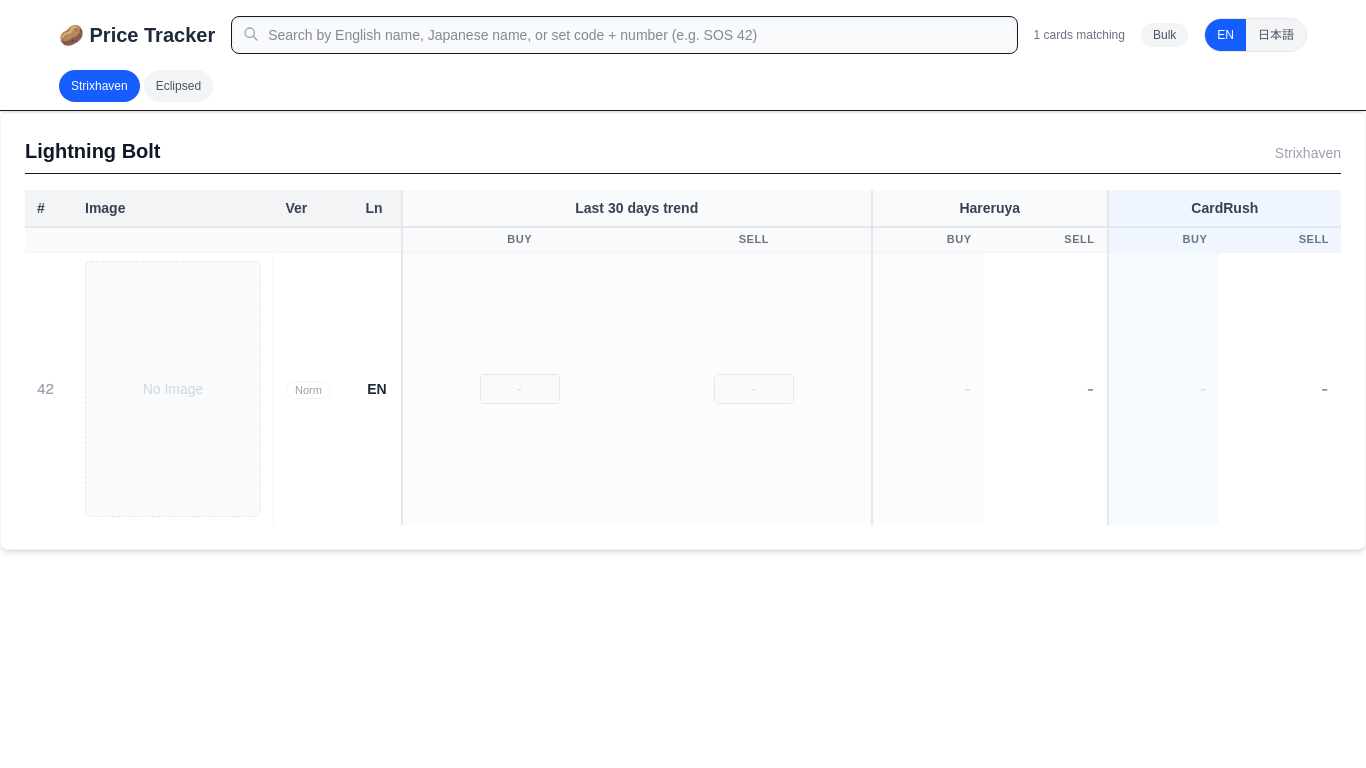
CardList › keeps matching card visible when search matches
The image size is (1366, 768).
In the field: {"x": 624, "y": 35} [231, 16, 1018, 54], type "Lightning"
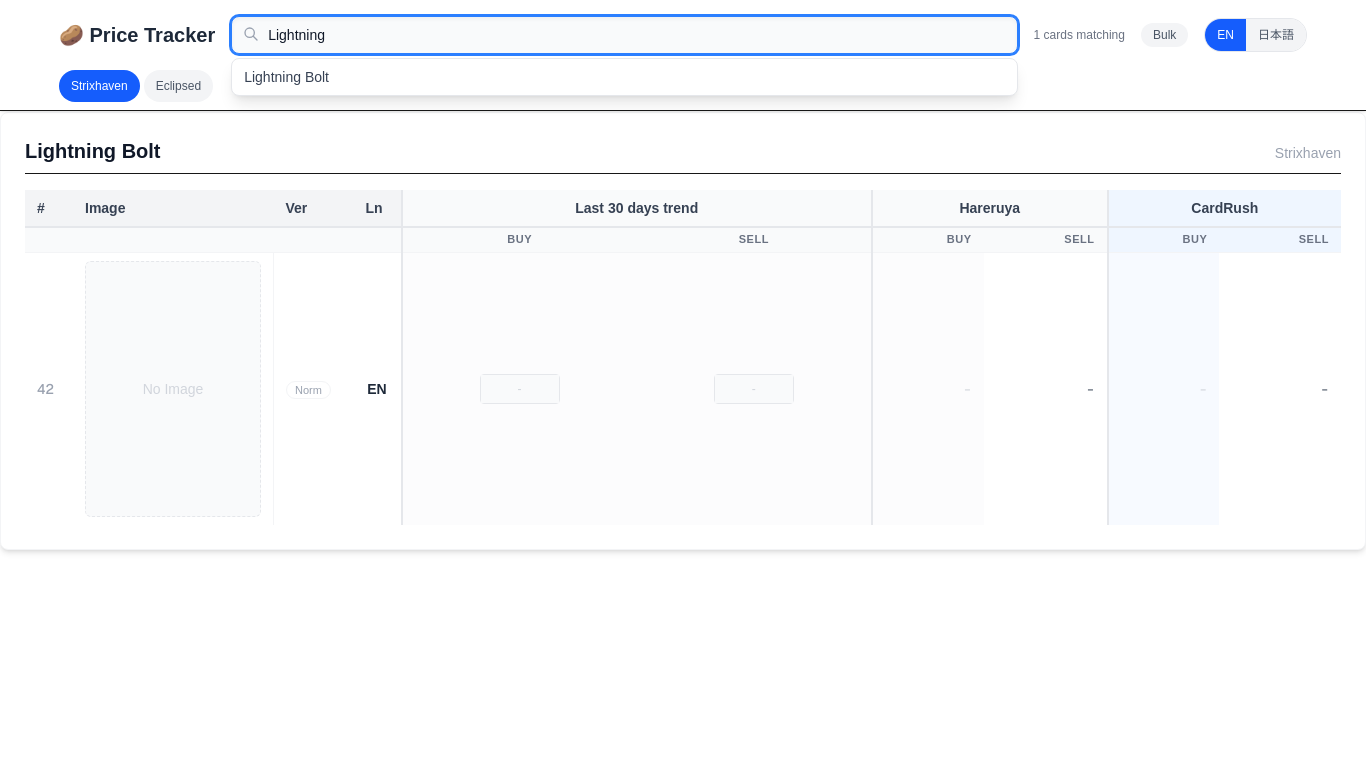
expect the text "Lightning Bolt" is shown: met, box [244, 67, 329, 87]
